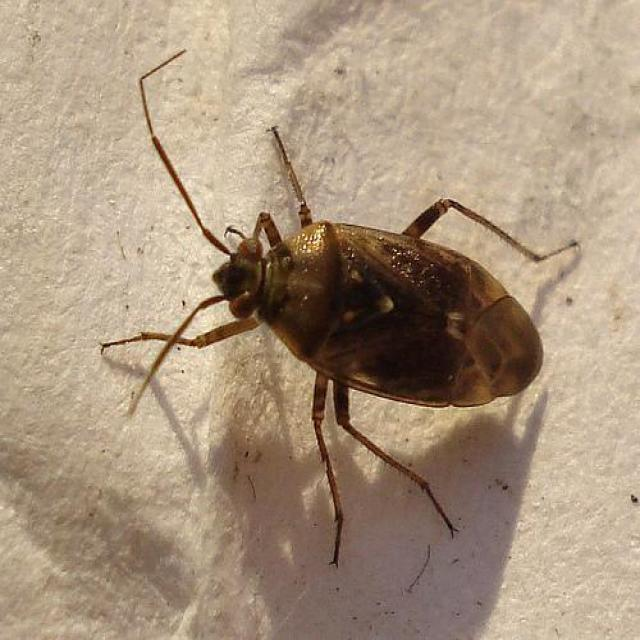Miridae-Adult-: (100, 43, 588, 570)
